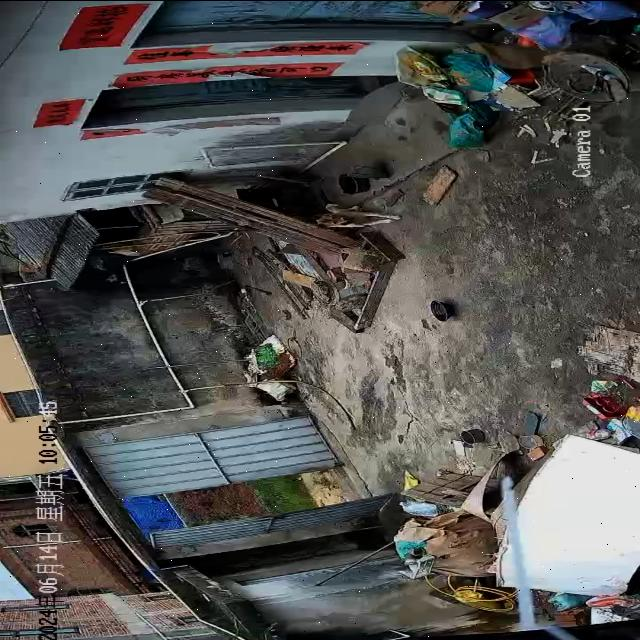dog: (314, 203, 404, 229)
